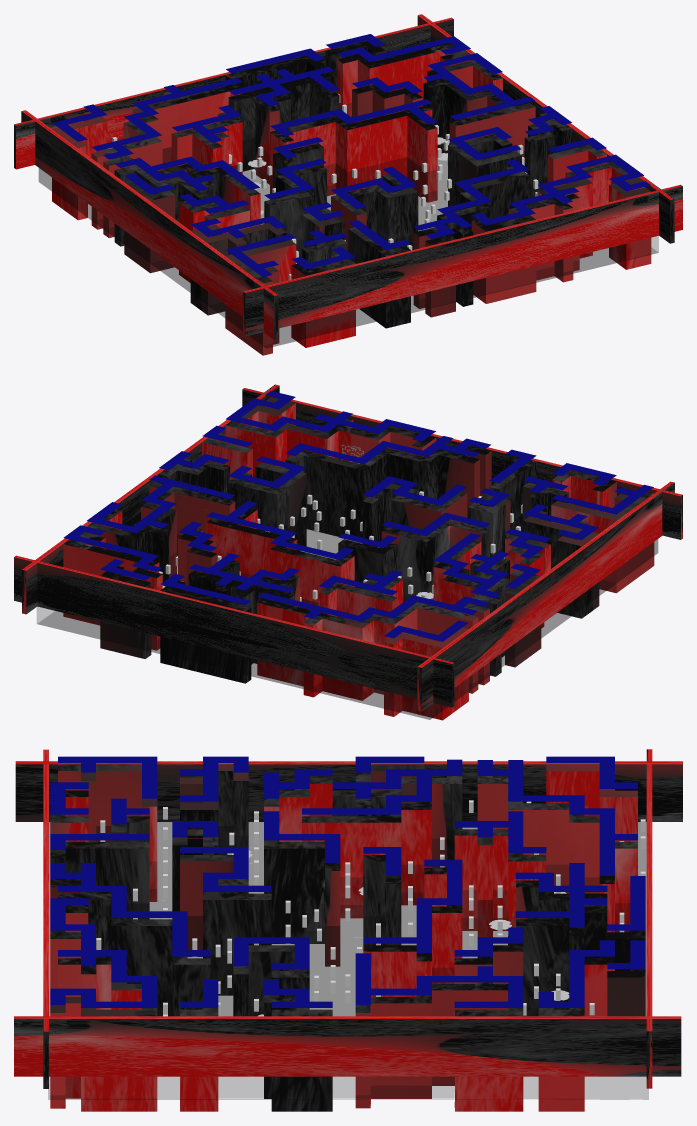
Rendered from map.glb.
3 renders of one model, top to bottom at view 1: azimuth 30°, elevation 25°; view 2: azimuth 150°, elevation 25°; view 3: azimuth 270°, elevation 25°, orthographic. The views are drawn at different scales.
Parts seen in each view (by area): view 1: maze_top, wall.border.012, ground, wall.border, wall.027, wall.019, wall.004, wall.007, wall.010, wall.border.006, wall.020, wall.021 (+21 smaller); view 2: maze_top, wall.border.006, ground, wall.border, wall.020, wall.010, wall.019, wall.027, wall.004, wall.016, wall.024, wall.border.012 (+21 smaller); view 3: maze_top, wall.border.004, ground, wall.border, wall.002, wall.019, wall.004, wall.010, wall.020, wall.021, wall.024, wall.007 (+21 smaller).
Part boxes in pixels (bbox=[...]): maze_top: bbox=[52, 34, 650, 277]; wall.border.012: bbox=[243, 184, 682, 336]; ground: bbox=[39, 97, 658, 348]; wall.border: bbox=[21, 110, 278, 339]; wall.027: bbox=[270, 105, 437, 202]; wall.019: bbox=[471, 161, 651, 303]; wall.004: bbox=[423, 60, 535, 171]; wall.007: bbox=[228, 73, 339, 184]; wall.010: bbox=[91, 84, 242, 237]; wall.border.006: bbox=[14, 17, 453, 169]; wall.020: bbox=[413, 166, 529, 317]; wall.021: bbox=[331, 174, 418, 250]; maze_top: bbox=[63, 391, 653, 641]; wall.border.006: bbox=[14, 555, 454, 707]; ground: bbox=[37, 474, 657, 719]; wall.border: bbox=[417, 481, 674, 711]; wall.020: bbox=[285, 443, 491, 537]; wall.010: bbox=[257, 598, 489, 700]; wall.019: bbox=[225, 397, 436, 483]; wall.027: bbox=[206, 508, 354, 610]; wall.004: bbox=[86, 482, 235, 586]; wall.016: bbox=[227, 462, 306, 550]; wall.024: bbox=[381, 519, 490, 605]; wall.border.012: bbox=[242, 388, 682, 539]; maze_top: bbox=[50, 756, 645, 1007]; wall.border.004: bbox=[14, 1016, 681, 1076]; ground: bbox=[48, 819, 648, 1099]; wall.border: bbox=[15, 761, 682, 821]; wall.002: bbox=[302, 776, 462, 918]; wall.019: bbox=[50, 906, 157, 1111]; wall.004: bbox=[355, 982, 523, 1111]; wall.010: bbox=[477, 768, 637, 932]; wall.020: bbox=[50, 871, 210, 1016]; wall.021: bbox=[180, 855, 271, 995]; wall.024: bbox=[264, 840, 340, 966]; wall.007: bbox=[515, 880, 607, 1016].
Size of what is drawn, in the model's own units: 43.78 by 7.49 by 43.84.
Materials: 31 (5 with a texture image).
